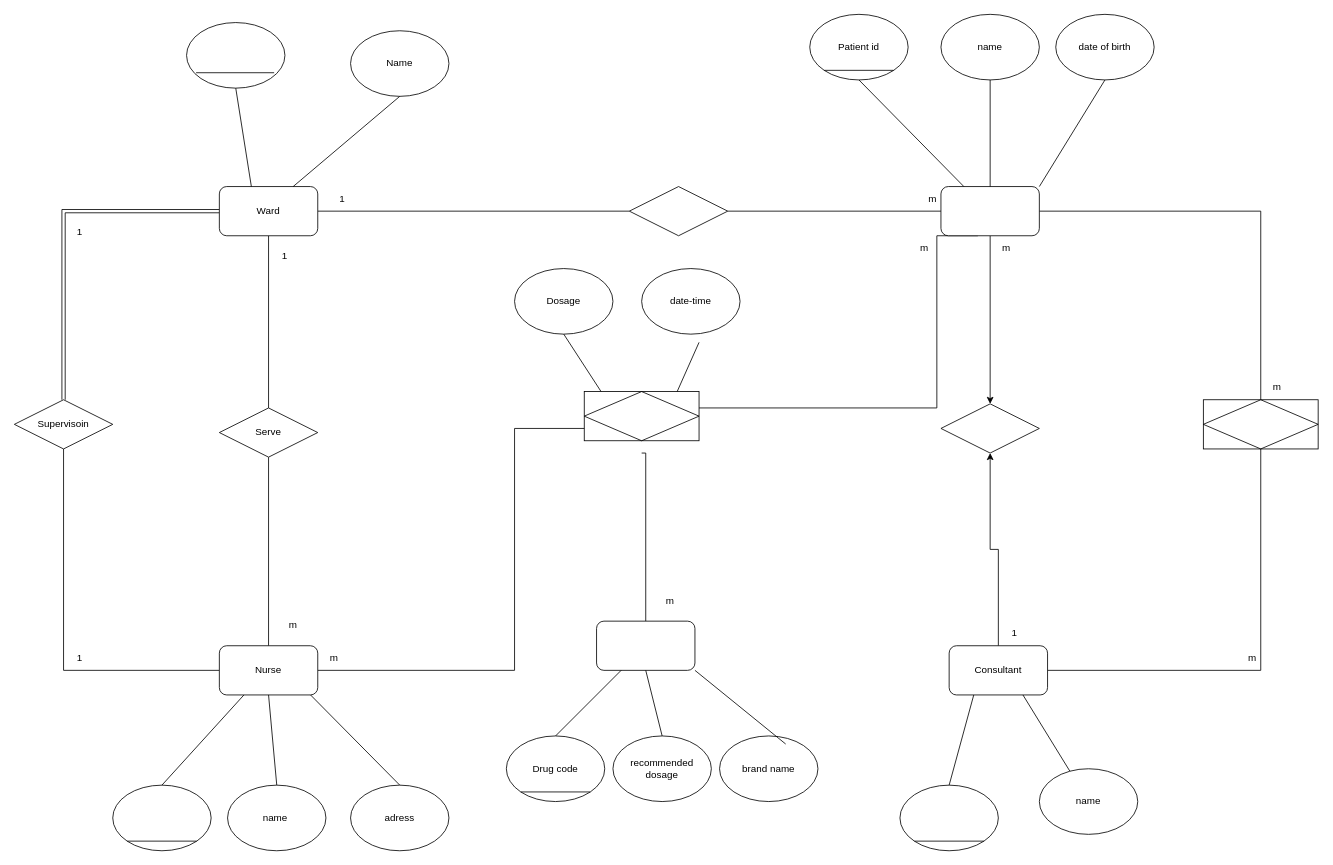
Image size: 1333x865. Some labels were removed from this diagram. Here are the shapes that lost their labels. From the top down, the centre of each, then its label:
At point (235, 55): "ward id".
At point (678, 211): "Host".
At point (989, 211): "Patient".
At point (641, 416): "give".
At point (989, 428): "leading".
At point (1260, 424): "Examine".
At point (645, 645): "Drugs".
At point (161, 817): "number".
At point (948, 817): "consultant id".
